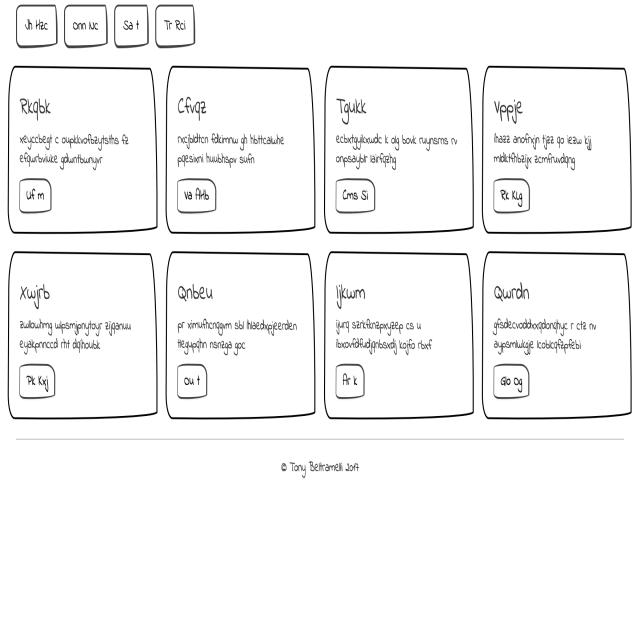Button: (490, 360, 533, 403), (174, 176, 219, 215), (491, 178, 531, 216), (330, 362, 370, 399), (336, 179, 378, 211), (176, 360, 209, 399)
Card: (5, 59, 160, 235), (165, 60, 316, 238), (479, 60, 633, 234), (321, 245, 473, 421), (325, 60, 474, 239), (480, 249, 634, 421), (7, 247, 159, 420), (166, 250, 317, 420)
Footer: (2, 432, 640, 640)
Heading 6: (490, 91, 527, 130), (17, 86, 53, 126), (174, 86, 210, 126), (490, 272, 531, 304), (16, 277, 55, 308), (334, 92, 371, 124), (336, 278, 369, 307), (177, 277, 215, 302)
Navigation Bar: (13, 2, 197, 50)
Paragraph: (174, 314, 298, 357), (333, 128, 459, 170), (18, 127, 128, 174), (330, 314, 435, 357), (492, 128, 593, 172), (492, 315, 602, 354), (175, 129, 288, 165), (16, 320, 132, 355)
